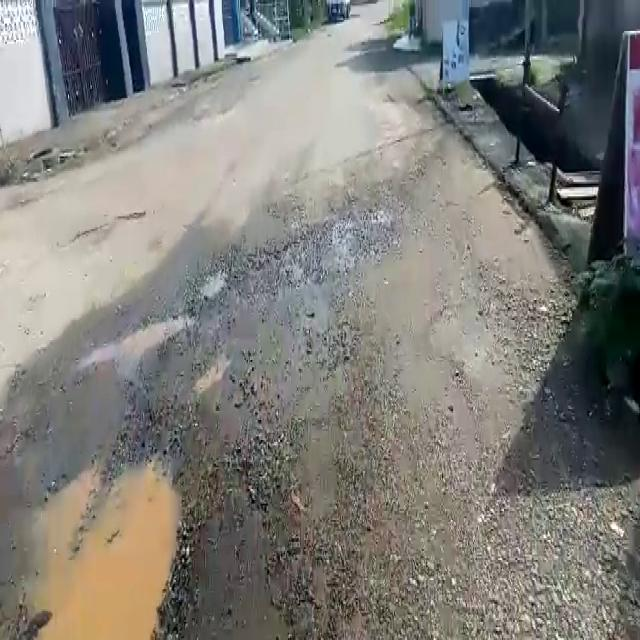Pothole: (21, 458, 186, 640)
